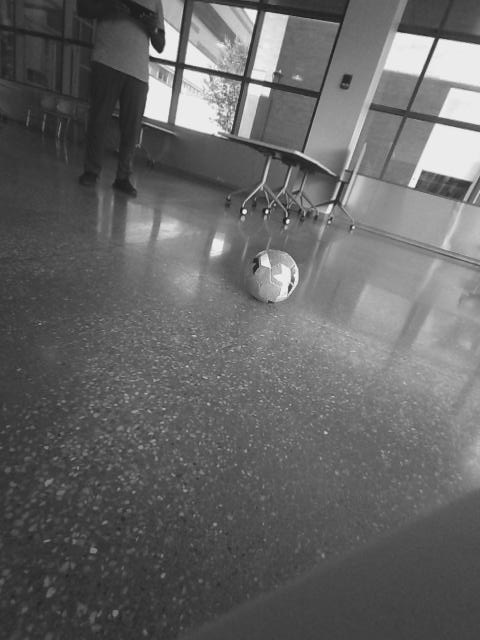ball: (241, 247, 301, 306)
